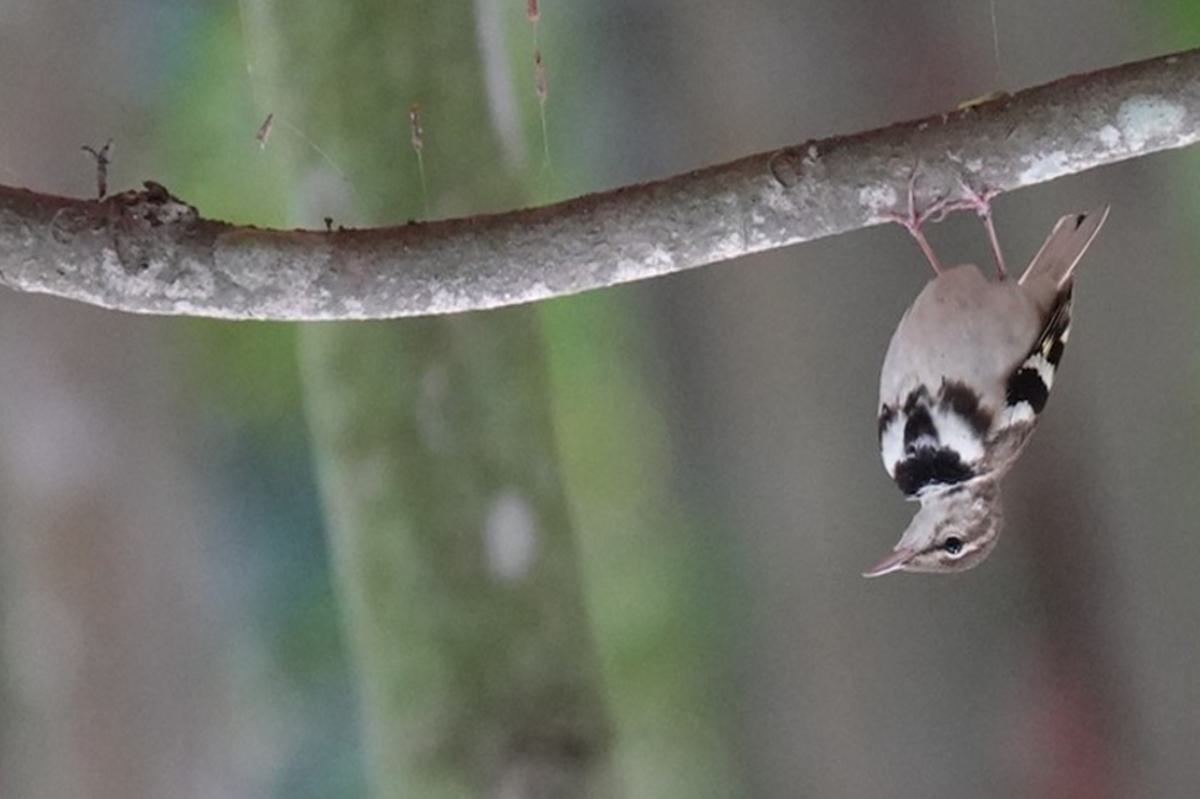wagtail: (850, 203, 1159, 584)
